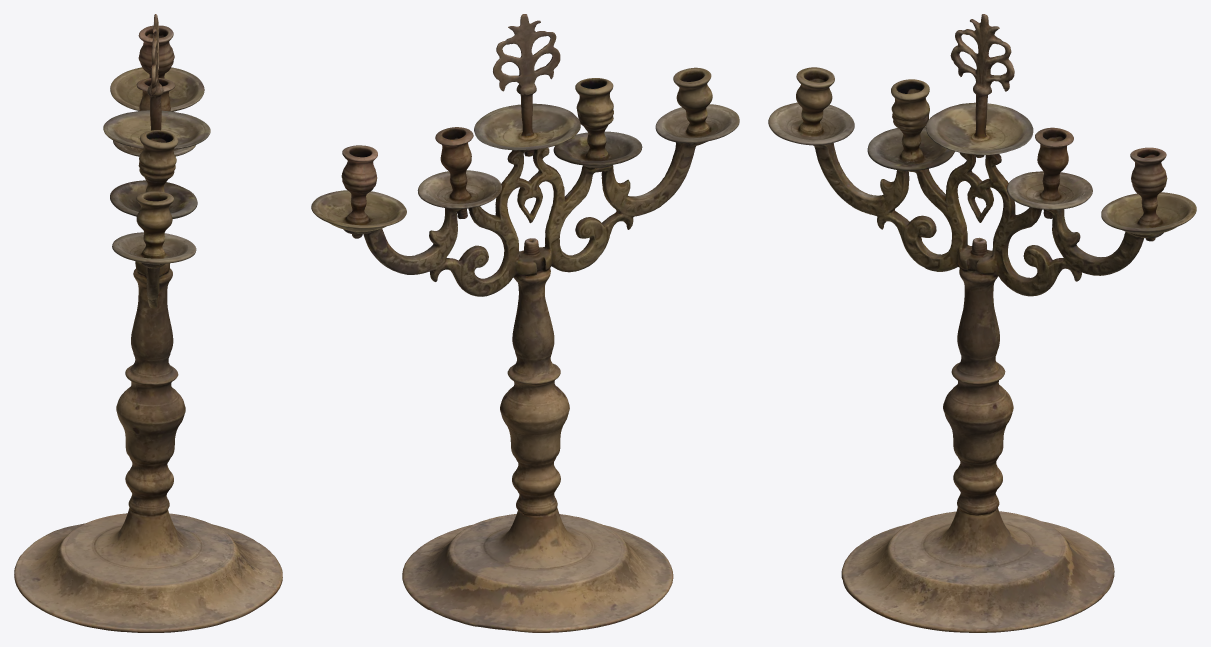
Rendered from preview.glb.
3 renders of one model, left to right at view 1: azimuth 30°, elevation 25°; view 2: azimuth 150°, elevation 25°; view 3: azimuth 270°, elevation 25°, orthographic.
Parts seen in each view (by area): view 1: Object_2; view 2: Object_2; view 3: Object_2.
Boxes of the visible parts, <box> form: Object_2: <box>14,14,282,632</box>; Object_2: <box>311,14,739,632</box>; Object_2: <box>768,14,1196,632</box>.
Bounding box in the file's own units: 15.99 × 34.14 × 23.36.
Materials: 1 (1 with a texture image).
